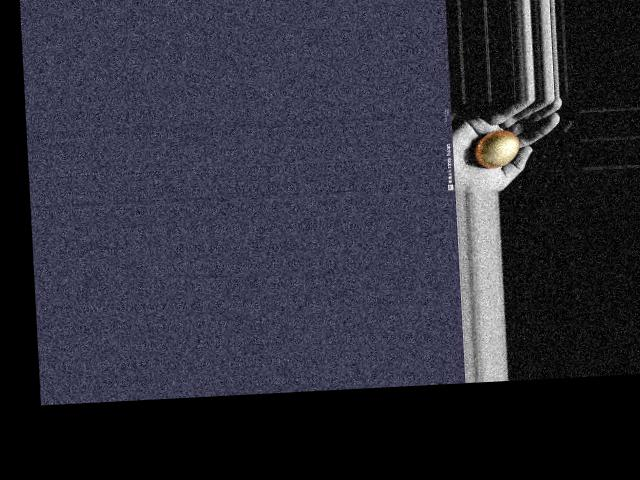egg: (475, 129, 520, 168)
